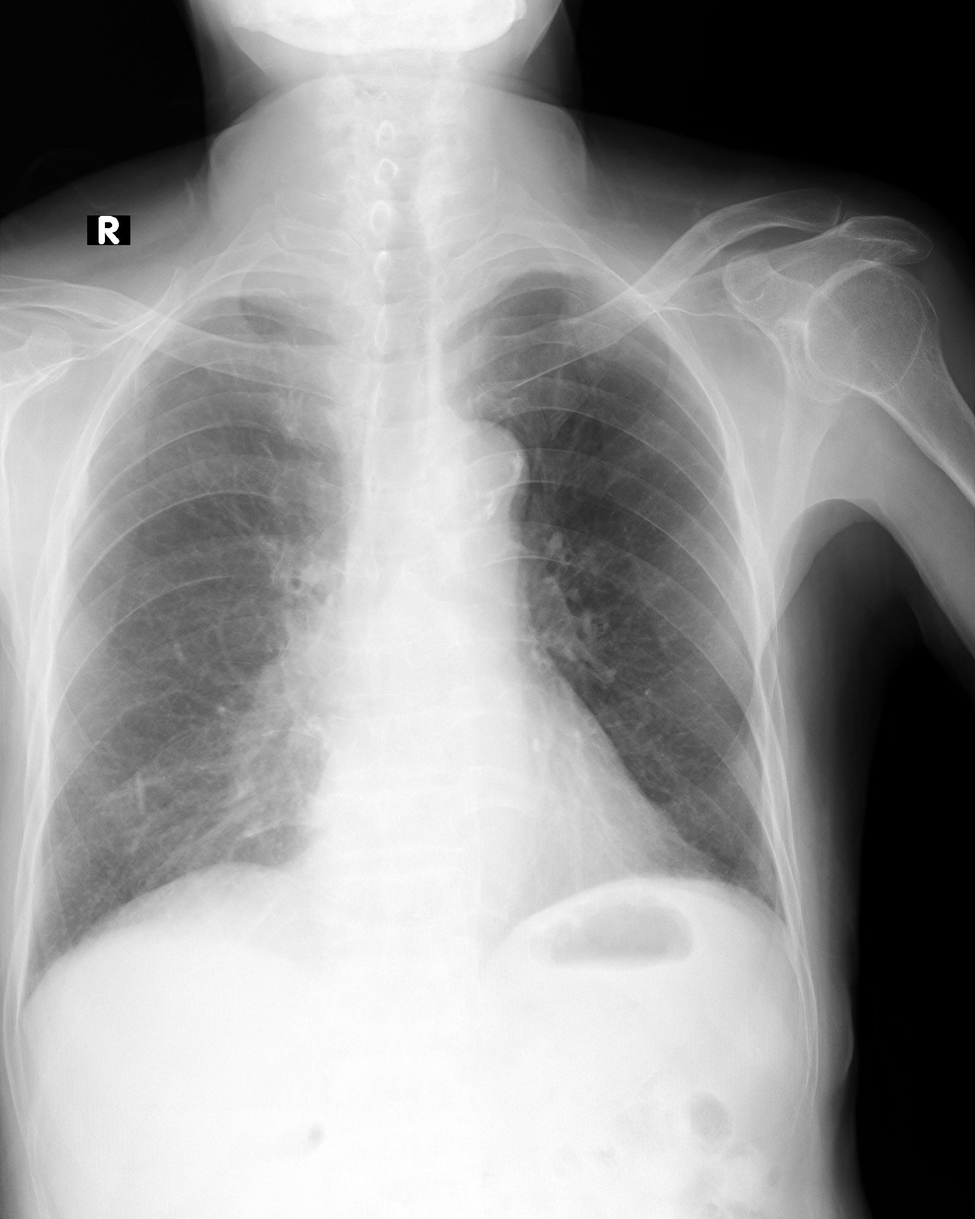Aortic enlargement: (421, 418, 530, 541)
